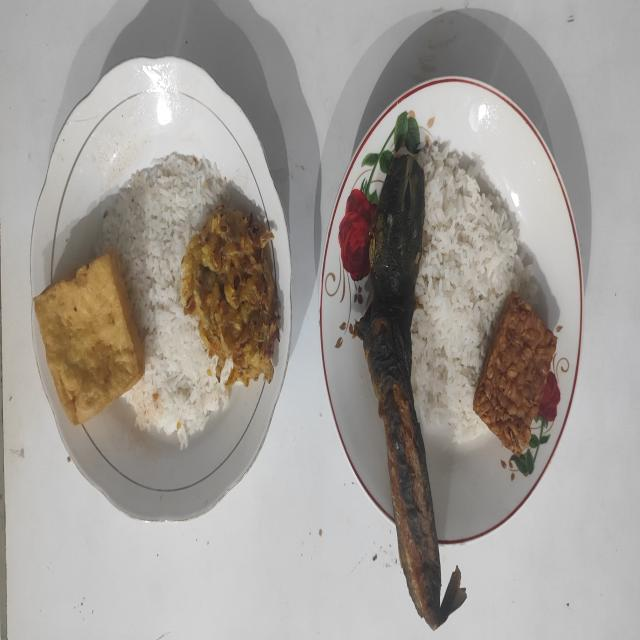nasi_putih: (95, 154, 232, 448), (411, 142, 529, 440)
tahu_goreng: (34, 253, 144, 424)
tempe_goreng: (474, 292, 556, 454)
